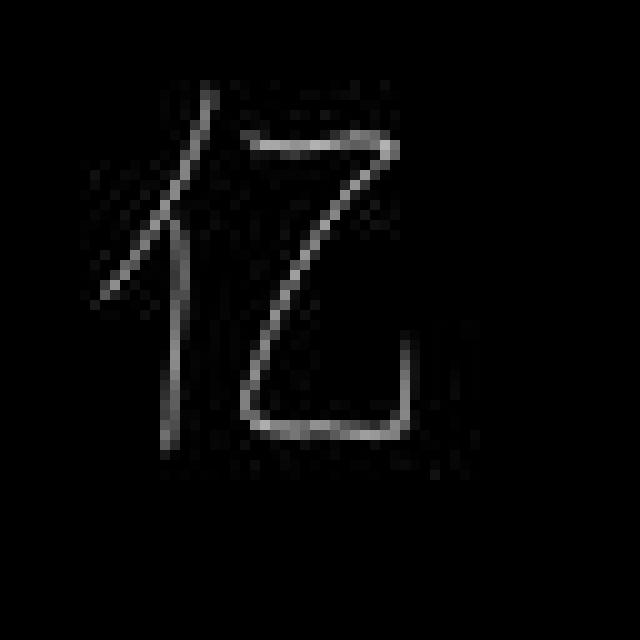100000 -a hundred thousand-: (89, 79, 428, 454)
